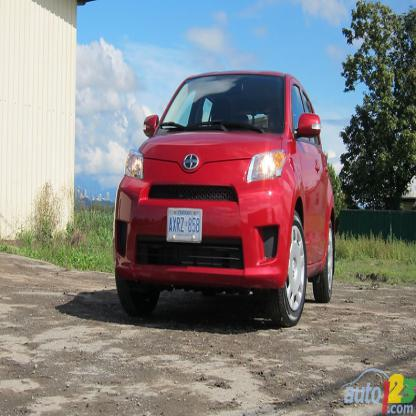Vehicle: (111, 68, 339, 329)
